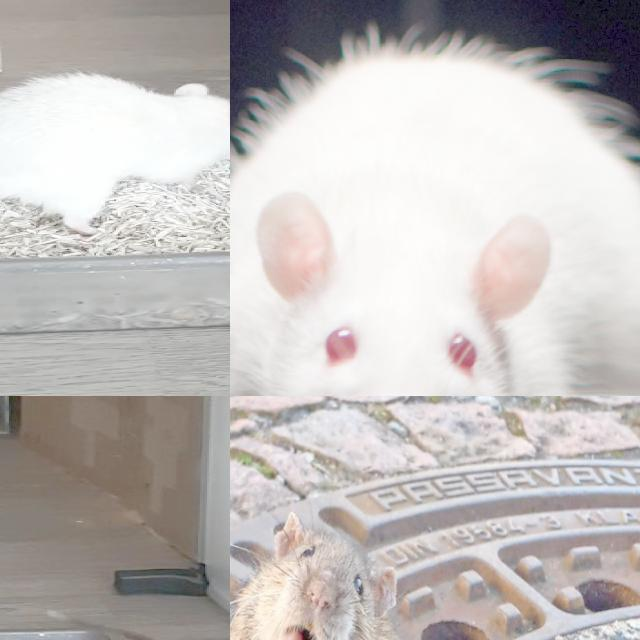rat: (230, 48, 640, 396), (0, 62, 230, 235), (230, 506, 436, 640)
